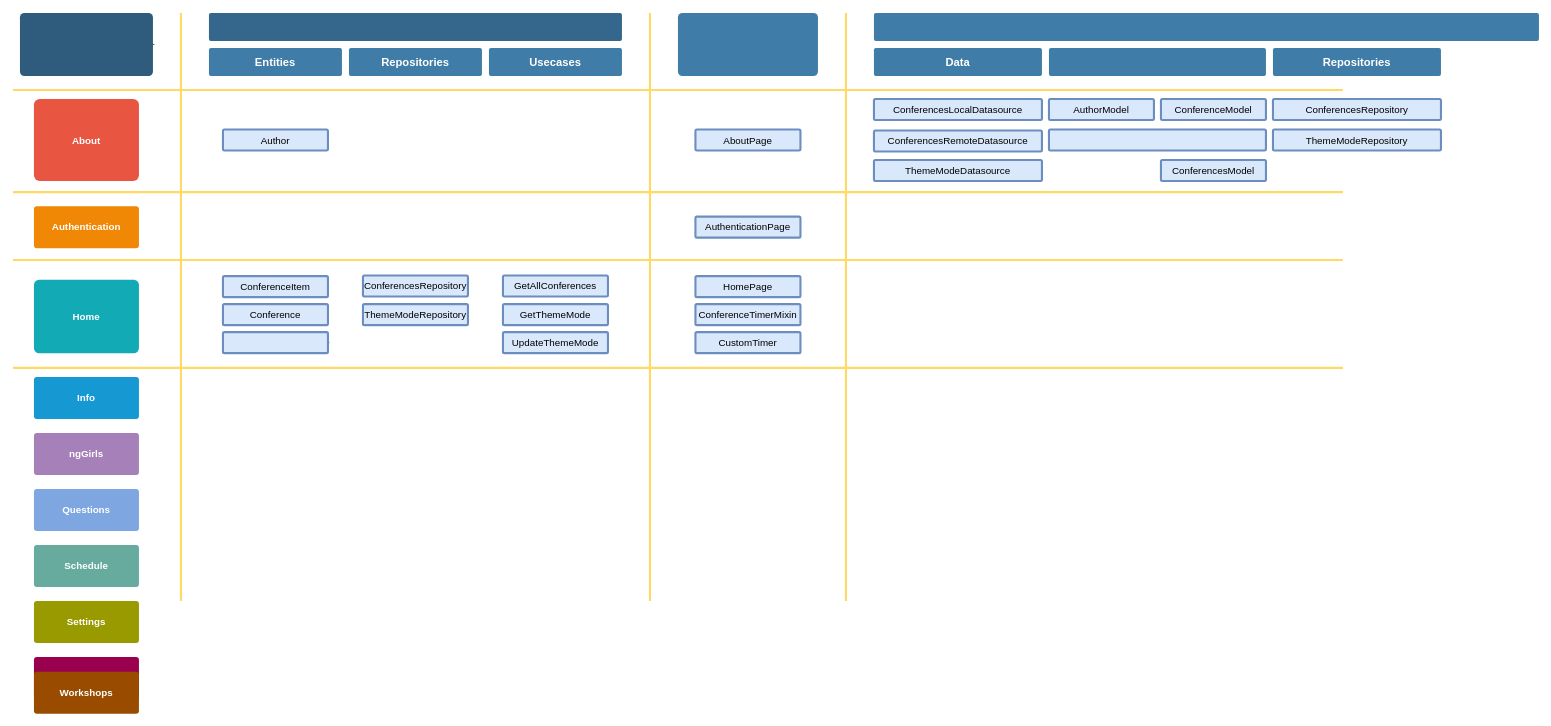
This 1551x726 diagram has some shape labels left out. Each missing label, with the box of its shape:
ConferenceHomePageSchduleItem: (1048, 128, 1267, 151)
Conferences: (222, 331, 329, 354)
Datasources: (874, 13, 1539, 41)
Domains: (209, 13, 622, 41)
Features: (20, 13, 153, 76)
Models: (1049, 48, 1266, 76)
Presentation: (678, 13, 818, 76)
